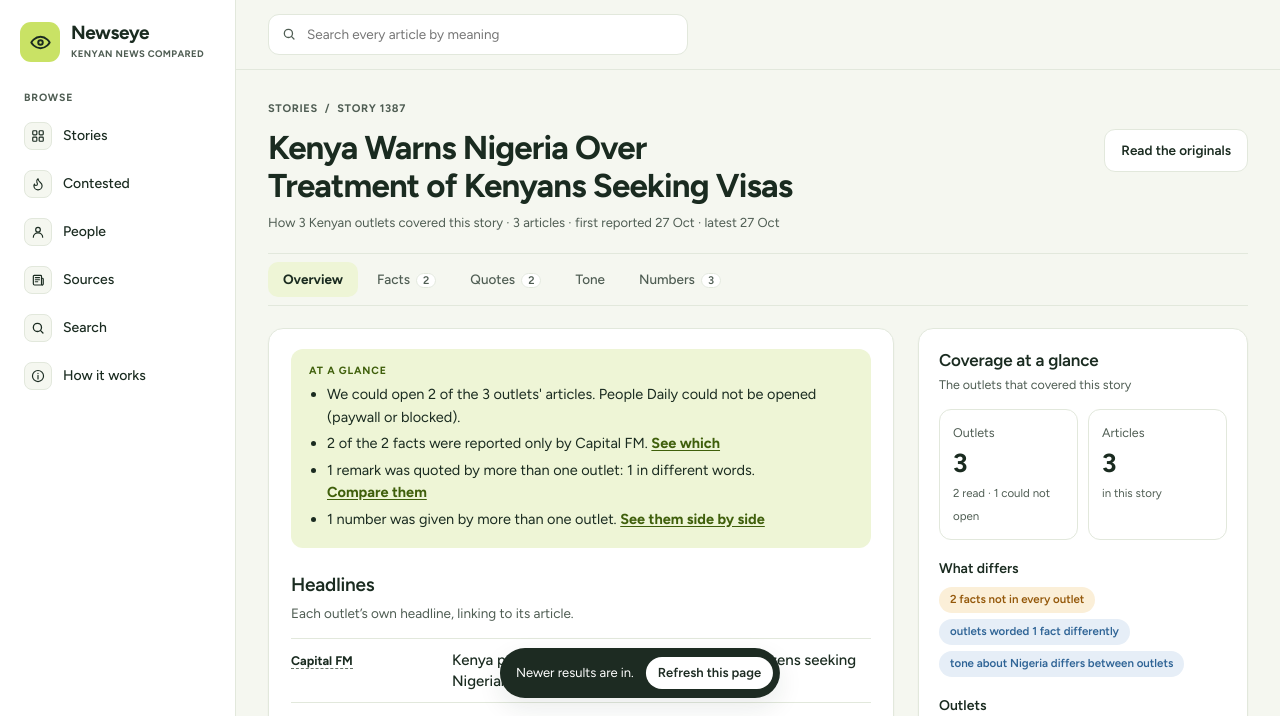
Test: keeping an open page current after a pipeline run › a story being read is not pulled away: newer results are offered, then loaded on request
This screenshot has width=1280, height=716.
Expected: the heading "Kenya Warns Nigeria Over Treatment of Kenyans Seeking Visas" is shown, [268, 128, 792, 205]
Expected: the text "Newer results are in. Refresh this page" is shown, [500, 648, 780, 698]
Click the button "Refresh this page". click: coordinates (709, 673)
box: [646, 657, 773, 689]
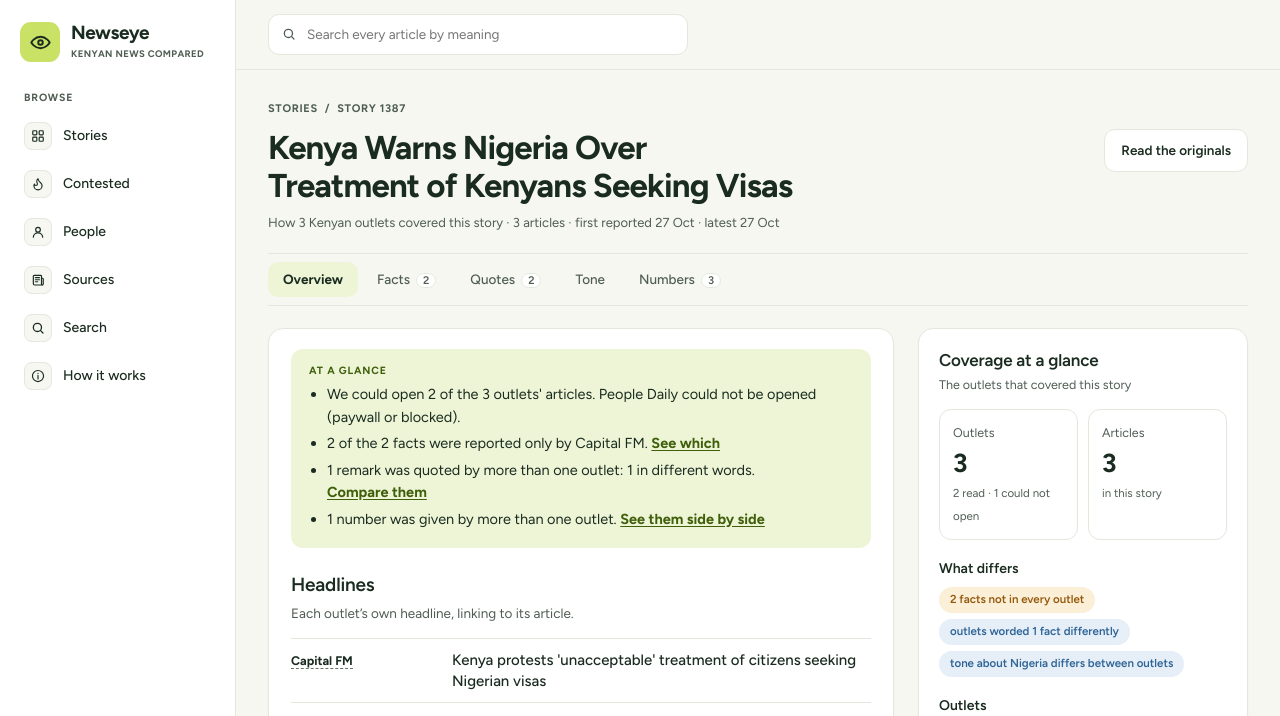
Expected: the text "Newer results are in" is gone
